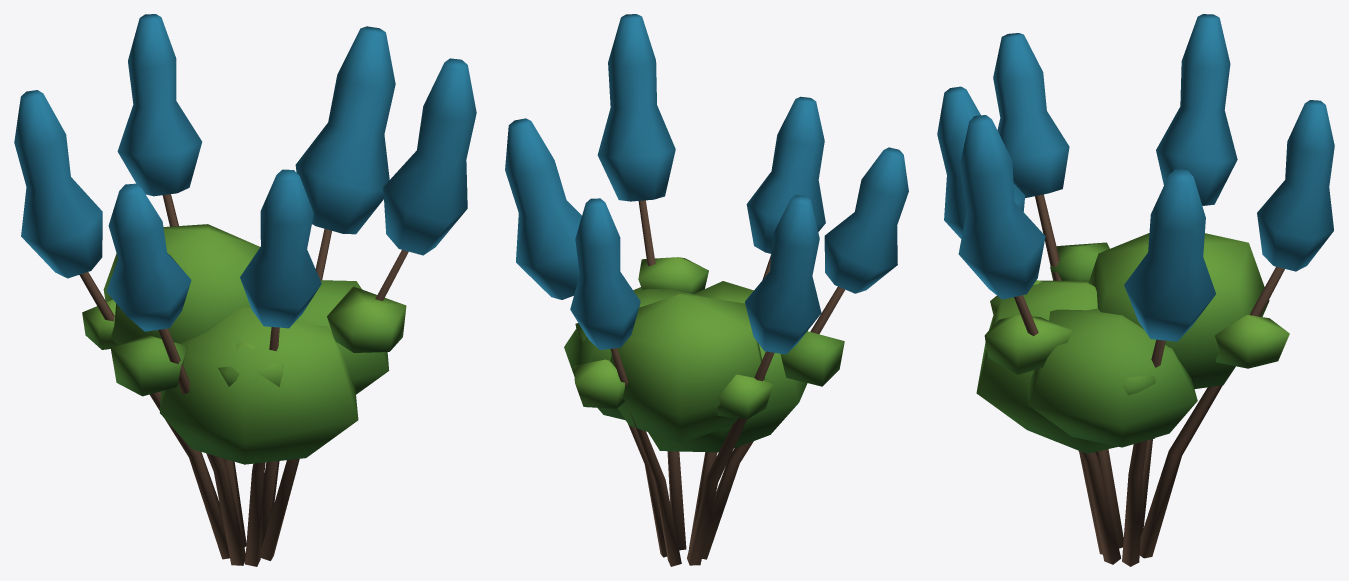
The model's file is flowershrub.lod1.glb.
The picture shows the model from 3 angles, left to right: view 1: azimuth 30°, elevation 25°; view 2: azimuth 150°, elevation 25°; view 3: azimuth 270°, elevation 25°; orthographic projection. The views are drawn at different scales.
Visible parts, largest first — view 1: flowershrub_s1_lod1; view 2: flowershrub_s1_lod1; view 3: flowershrub_s1_lod1.
Part boxes in pixels (x1=…): flowershrub_s1_lod1: x1=14, y1=14, x2=476, y2=566; flowershrub_s1_lod1: x1=505, y1=14, x2=908, y2=566; flowershrub_s1_lod1: x1=937, y1=14, x2=1334, y2=566.
Bounding box in the file's own units: 1.09 × 1.52 × 1.09.
